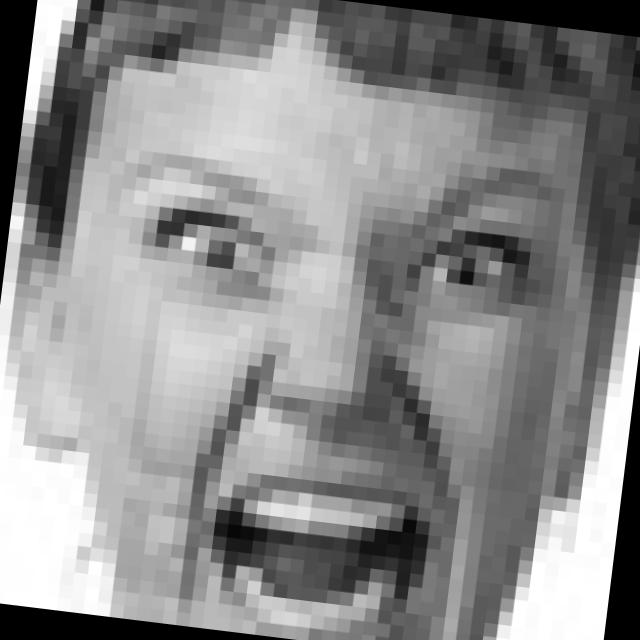angry: (64, 119, 570, 640)
